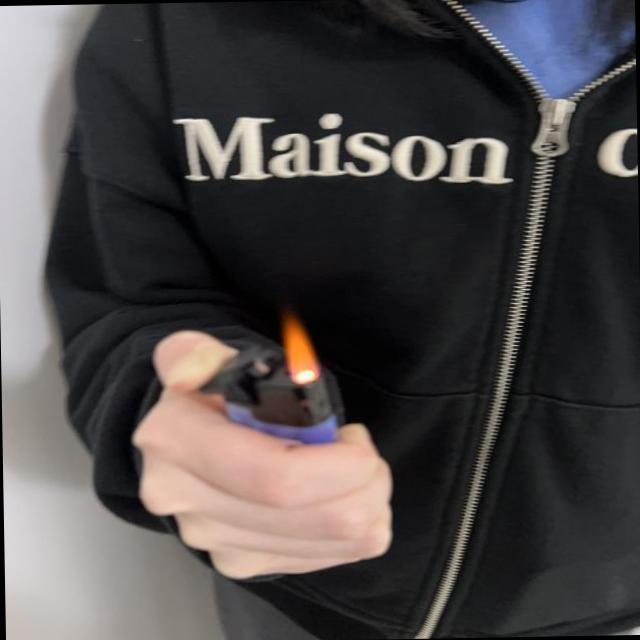Fire: (278, 308, 324, 388)
